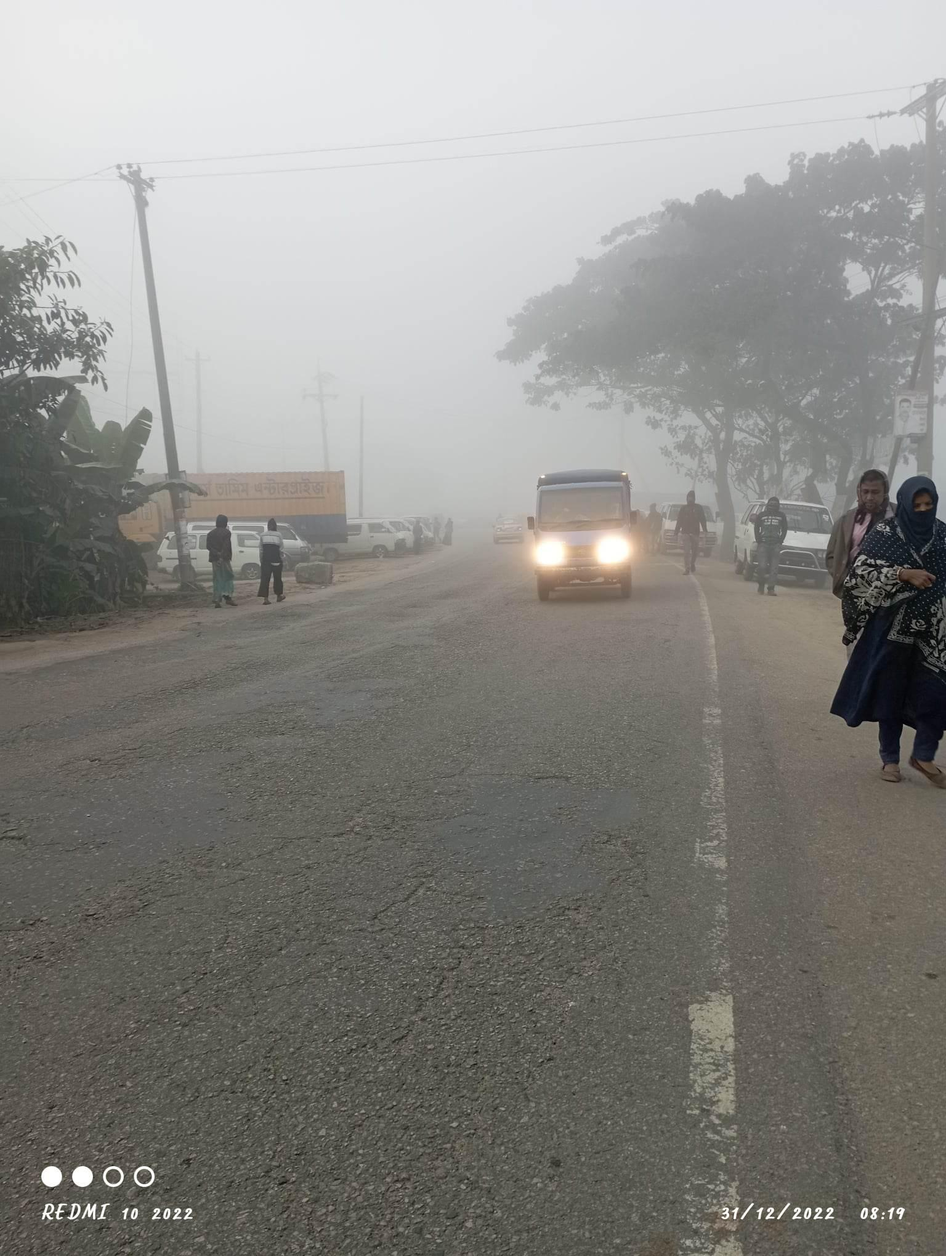Car: (734, 477, 842, 603), (150, 520, 281, 579), (657, 488, 729, 577)
Truck: (125, 455, 362, 581), (511, 438, 653, 634)
